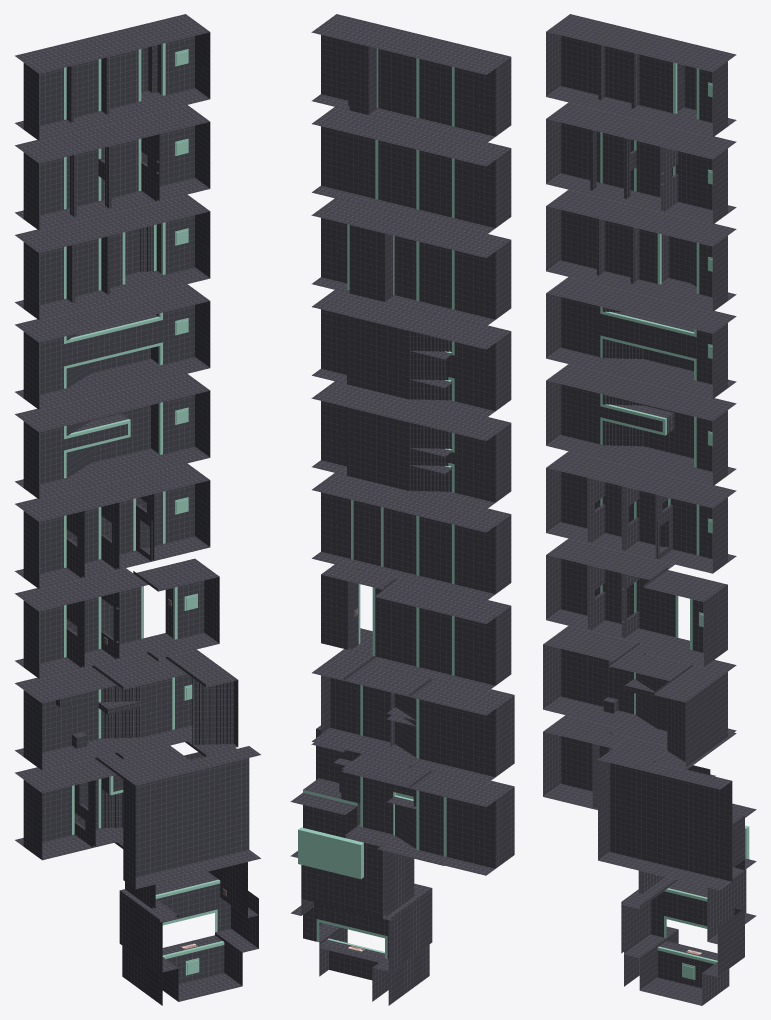
The model's file is movementTest4.glb.
3 views of the same model, side by side, from view 1: azimuth 30°, elevation 25°; view 2: azimuth 150°, elevation 25°; view 3: azimuth 330°, elevation 25° (orthographic). The views are drawn at different scales.
Visible parts, largest first — view 1: entity17_brush70, entity1_brush0, entity3_brush0, entity7_brush0, entity4_brush0, entity2_brush0, entity5_brush0, entity4_brush1, entity3_brush1, entity5_brush1, entity1_brush1, entity13_brush12 (+76 smaller); view 2: entity16_brush2, entity1_brush0, entity3_brush20, entity4_brush21, entity7_brush0, entity2_brush0, entity4_brush0, entity5_brush0, entity3_brush0, entity2_brush11, entity17_brush1, entity17_brush50 (+73 smaller); view 3: entity17_brush70, entity1_brush0, entity4_brush0, entity3_brush0, entity7_brush0, entity2_brush0, entity5_brush0, entity3_brush1, entity4_brush1, entity16_brush2, entity16_brush0, entity5_brush1 (+79 smaller).
Boxes of the visible parts, x1=… form: entity17_brush70: x1=123, y1=746, x2=260, y2=888; entity1_brush0: x1=15, y1=14, x2=209, y2=73; entity3_brush0: x1=15, y1=284, x2=209, y2=342; entity7_brush0: x1=15, y1=463, x2=209, y2=521; entity4_brush0: x1=15, y1=374, x2=209, y2=432; entity2_brush0: x1=15, y1=105, x2=209, y2=163; entity5_brush0: x1=15, y1=194, x2=209, y2=252; entity4_brush1: x1=15, y1=446, x2=209, y2=499; entity3_brush1: x1=15, y1=357, x2=209, y2=409; entity5_brush1: x1=15, y1=267, x2=209, y2=320; entity1_brush1: x1=15, y1=88, x2=209, y2=140; entity13_brush12: x1=14, y1=568, x2=148, y2=611; entity16_brush2: x1=419, y1=699, x2=495, y2=777; entity1_brush0: x1=311, y1=14, x2=510, y2=74; entity3_brush20: x1=347, y1=315, x2=409, y2=399; entity4_brush21: x1=347, y1=407, x2=409, y2=490; entity7_brush0: x1=312, y1=473, x2=510, y2=532; entity2_brush0: x1=312, y1=107, x2=510, y2=166; entity4_brush0: x1=311, y1=381, x2=510, y2=440; entity5_brush0: x1=311, y1=198, x2=510, y2=257; entity3_brush0: x1=312, y1=290, x2=510, y2=349; entity2_brush11: x1=321, y1=126, x2=375, y2=198; entity17_brush1: x1=446, y1=797, x2=495, y2=868; entity17_brush50: x1=301, y1=865, x2=383, y2=918; entity17_brush70: x1=598, y1=751, x2=732, y2=890; entity1_brush0: x1=546, y1=14, x2=736, y2=72; entity4_brush0: x1=546, y1=364, x2=736, y2=420; entity3_brush0: x1=546, y1=277, x2=736, y2=333; entity7_brush0: x1=546, y1=451, x2=736, y2=508; entity2_brush0: x1=546, y1=102, x2=736, y2=159; entity5_brush0: x1=546, y1=189, x2=736, y2=246; entity3_brush1: x1=546, y1=347, x2=736, y2=399; entity4_brush1: x1=546, y1=435, x2=736, y2=486; entity16_brush2: x1=561, y1=648, x2=633, y2=714; entity16_brush0: x1=685, y1=672, x2=727, y2=767; entity5_brush1: x1=546, y1=260, x2=736, y2=311.
Size of the model in its own units: 120 by 538 by 54.4.
Materials: 6 (6 with a texture image).
